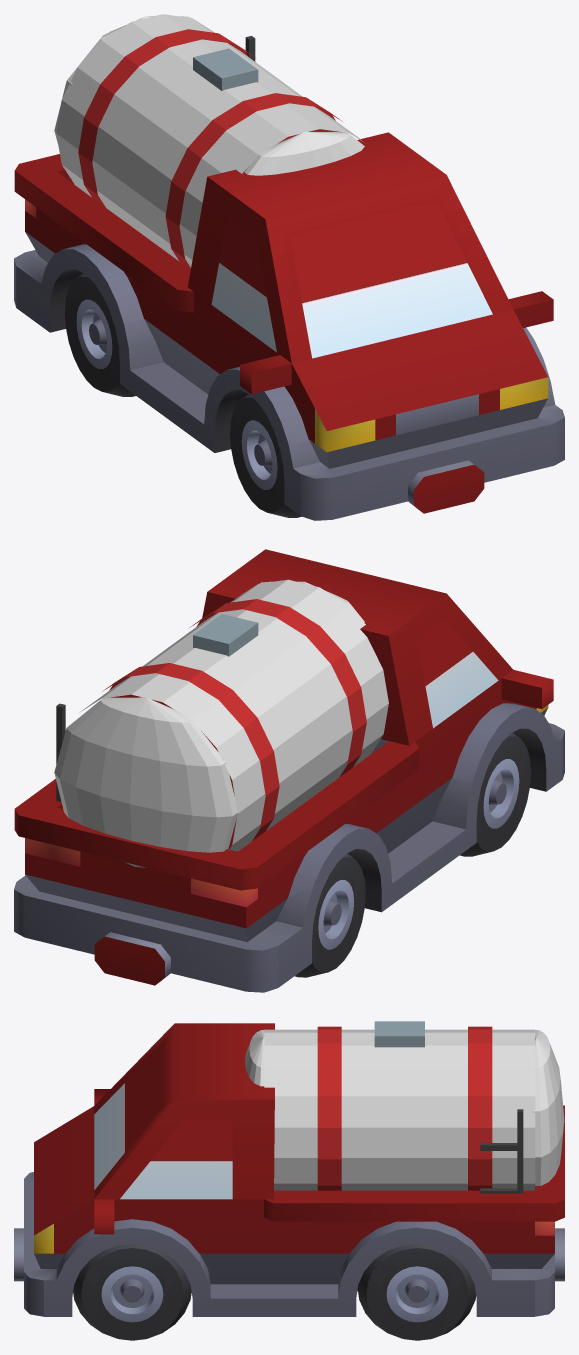
Rendered from tankbil.glb.
The picture shows the model from 3 angles, top to bottom: view 1: azimuth 30°, elevation 25°; view 2: azimuth 150°, elevation 25°; view 3: azimuth 270°, elevation 25°; orthographic projection. The views are drawn at different scales.
Parts seen in each view (by area): view 1: body, till-tankbil, wheel-back-right, wheel-front-right; view 2: body, till-tankbil, wheel-front-right, wheel-back-right; view 3: body, till-tankbil, wheel-front-left, wheel-back-left.
Part boxes in pixels (x1,y1,x2,y2): body: (14, 132, 564, 520); till-tankbil: (54, 14, 364, 269); wheel-back-right: (64, 273, 135, 396); wheel-front-right: (230, 394, 301, 517); body: (14, 549, 564, 992); till-tankbil: (54, 579, 388, 867); wheel-front-right: (460, 732, 530, 856); wheel-back-right: (295, 853, 365, 977); body: (14, 1023, 564, 1316); till-tankbil: (245, 1021, 564, 1193); wheel-front-left: (73, 1244, 191, 1340); wheel-back-left: (357, 1244, 476, 1340).
Size of the model in its own units: 1.5 by 1.48 by 2.75.
Materials: 5 (1 with a texture image).
